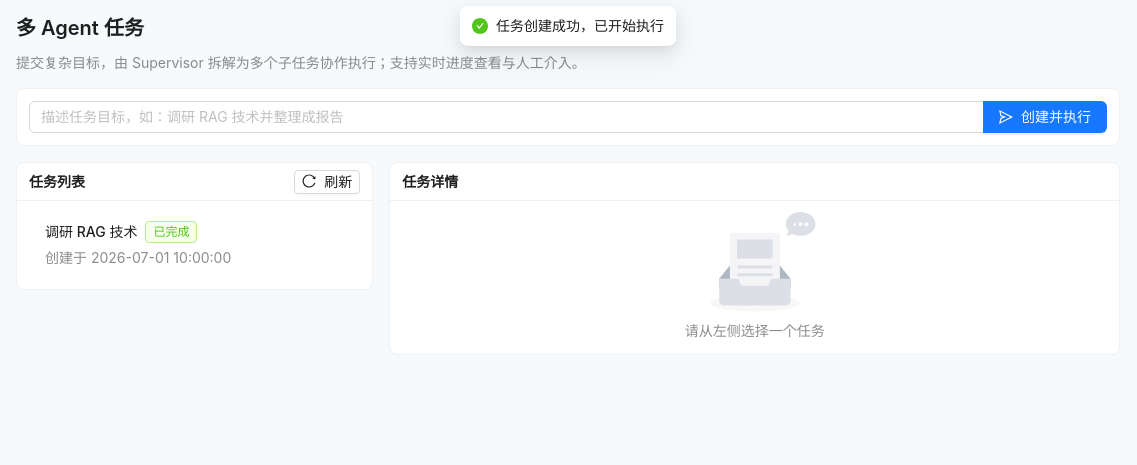
AgentTaskPanel › 时间线加载历史事件并渲染中文标签
This screenshot has width=1137, height=465.
Click the text "调研 RAG 技术" at (91, 231), box [45, 222, 137, 240]
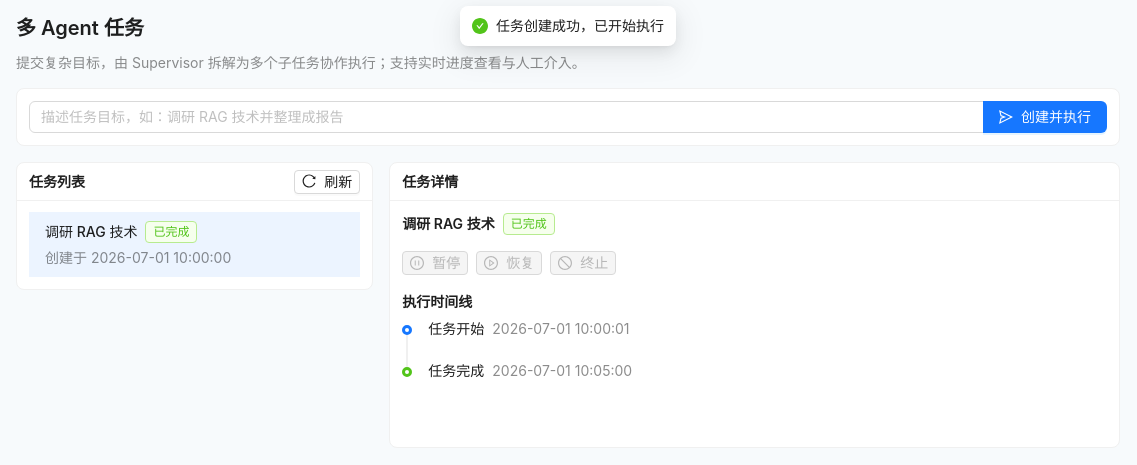
Now the text "任务开始" is shown, box [428, 320, 484, 337]
Now the text "任务完成" is shown, box [428, 362, 484, 379]
